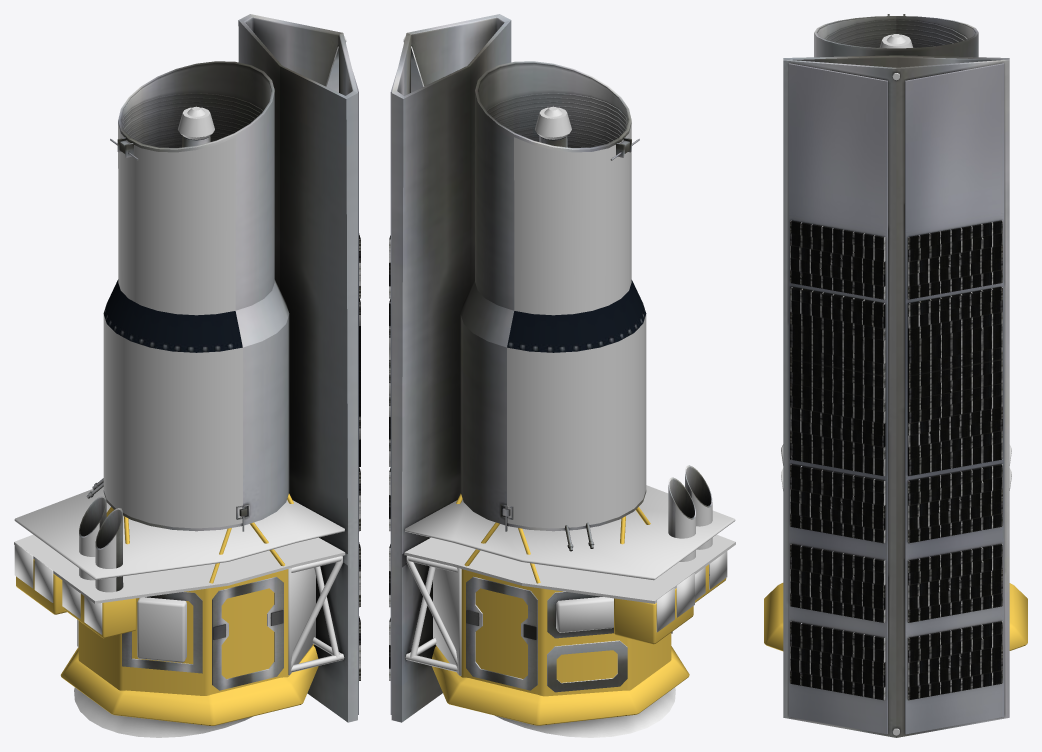
Rendered from Spitzer.fbx.
The picture shows the model from 3 angles, left to right: view 1: azimuth 30°, elevation 25°; view 2: azimuth 150°, elevation 25°; view 3: azimuth 270°, elevation 25°; orthographic projection. The views are drawn at different scales.
Visible parts, largest first — view 1: BUS, gold_foil, silver_foil, BUS.002, foil_platform, BUS.001; view 2: BUS, gold_foil, silver_foil, BUS.002, foil_platform, BUS.001; view 3: BUS, gold_foil.
Part boxes in pixels (x1,y1,x2,y2): BUS: [14, 14, 360, 722]; gold_foil: [16, 493, 318, 725]; silver_foil: [14, 487, 344, 675]; BUS.002: [103, 279, 289, 352]; foil_platform: [14, 534, 345, 603]; BUS.001: [74, 687, 252, 737]; BUS: [389, 14, 727, 722]; gold_foil: [432, 493, 726, 725]; silver_foil: [405, 485, 735, 675]; BUS.002: [460, 280, 646, 352]; foil_platform: [404, 534, 735, 603]; BUS.001: [495, 687, 675, 737]; BUS: [783, 14, 1009, 737]; gold_foil: [764, 583, 1027, 651].
Bounding box in the file's own units: 362 × 788 × 271.
